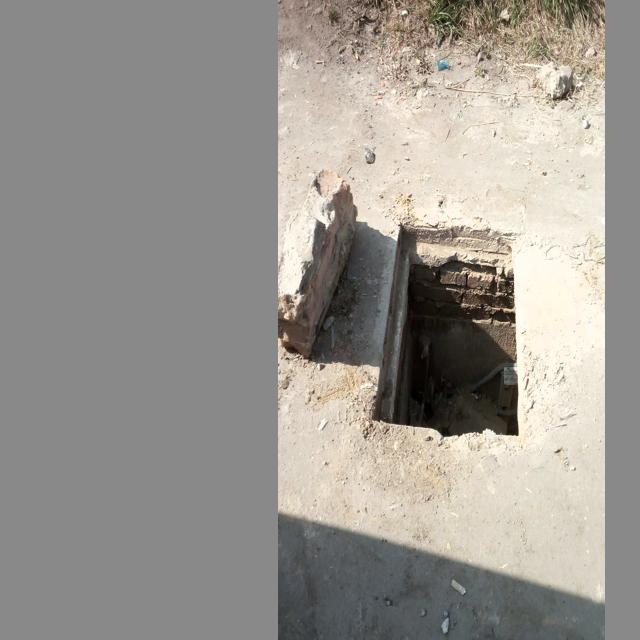lose: (355, 197, 553, 462)
